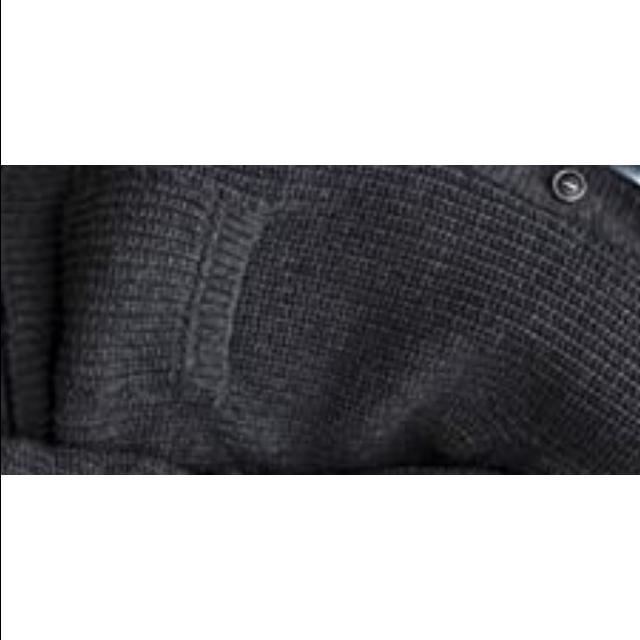wool: (0, 165, 640, 475)
